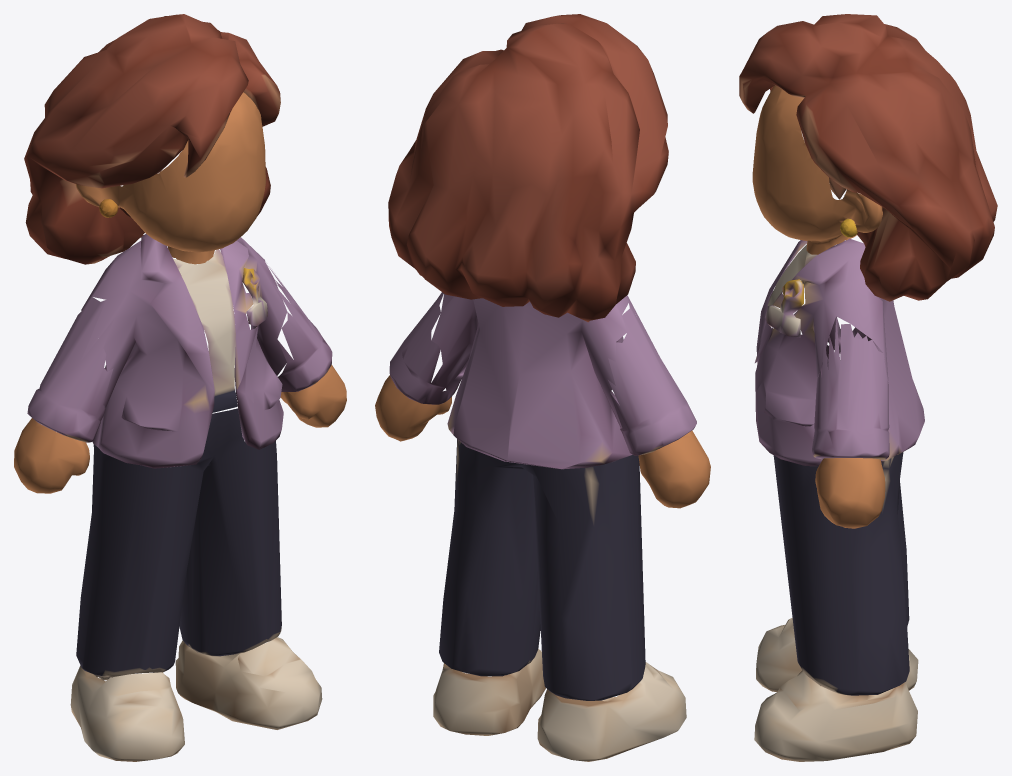
The picture shows the model from 3 angles, left to right: view 1: azimuth 30°, elevation 25°; view 2: azimuth 150°, elevation 25°; view 3: azimuth 270°, elevation 25°; orthographic projection.
Visible parts, largest first — view 1: bottom, top, hair, head, shoe_l, shoe_r, sleeve_r, hand_r, sleeve_l, hand_l; view 2: hair, bottom, top, shoe_r, sleeve_r, shoe_l, hand_r, sleeve_l, hand_l; view 3: hair, bottom, top, shoe_l, head, sleeve_l, hand_l, shoe_r.
Boxes of the visible parts, x1,y1,x2,y2 form: bottom: [76, 408, 281, 680]; top: [81, 234, 287, 468]; hair: [24, 14, 280, 264]; head: [75, 92, 265, 264]; shoe_l: [175, 637, 322, 729]; shoe_r: [70, 665, 184, 761]; sleeve_r: [27, 297, 113, 442]; hand_r: [14, 418, 89, 493]; sleeve_l: [267, 265, 332, 391]; hand_l: [280, 365, 346, 427]; hair: [388, 14, 668, 322]; bottom: [439, 439, 645, 700]; top: [431, 294, 659, 469]; shoe_r: [537, 662, 686, 761]; sleeve_r: [608, 303, 696, 455]; shoe_l: [433, 649, 545, 735]; hand_r: [638, 430, 710, 508]; sleeve_l: [389, 292, 458, 404]; hand_l: [375, 375, 451, 441]; hair: [739, 14, 997, 301]; bottom: [773, 452, 909, 695]; top: [755, 238, 924, 466]; shoe_l: [754, 670, 917, 761]; head: [752, 85, 882, 254]; sleeve_l: [812, 318, 889, 459]; hand_l: [815, 458, 885, 528]; shoe_r: [756, 617, 918, 692].
Size of the model in its own units: 0.5029 by 1.03 by 0.3498.
